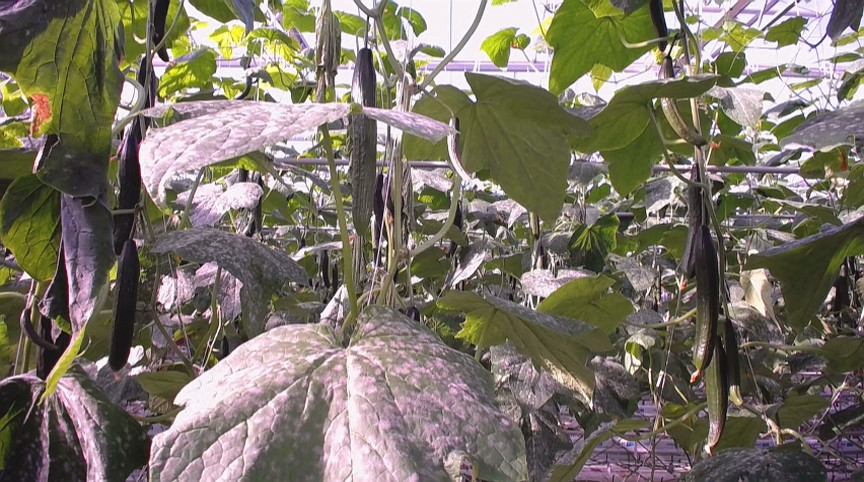cucumber: (350, 49, 375, 235), (658, 54, 707, 148), (110, 238, 142, 372), (113, 135, 142, 253), (692, 229, 716, 370), (684, 166, 702, 278), (708, 340, 726, 447), (445, 116, 472, 182), (152, 1, 169, 62), (647, 1, 667, 51)
